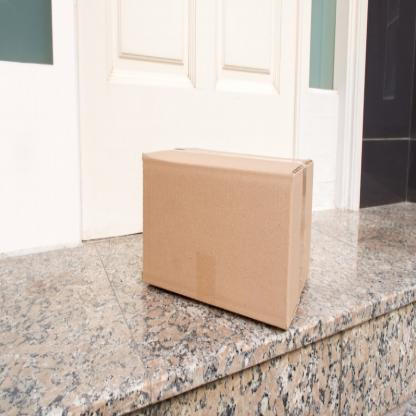package: (141, 144, 317, 338)
